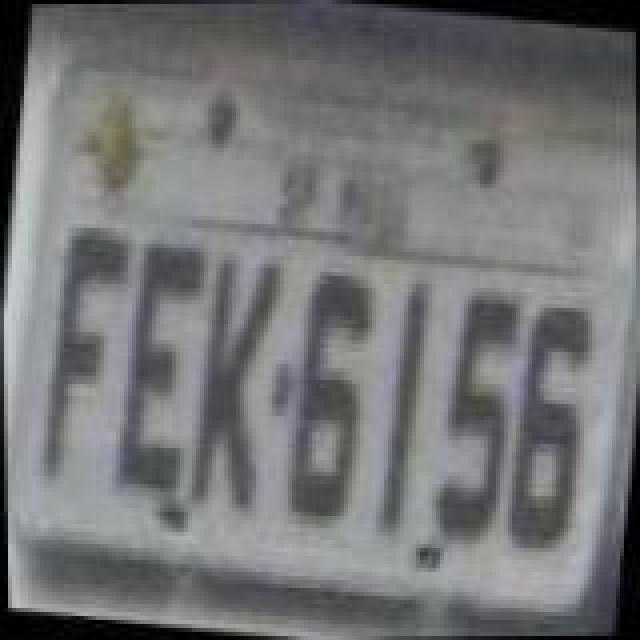1: (374, 278, 434, 534)
5: (426, 290, 526, 546)
6: (280, 260, 384, 524), (498, 298, 598, 558)
E: (110, 234, 214, 498)
F: (32, 212, 140, 484)
K: (182, 254, 290, 518)
